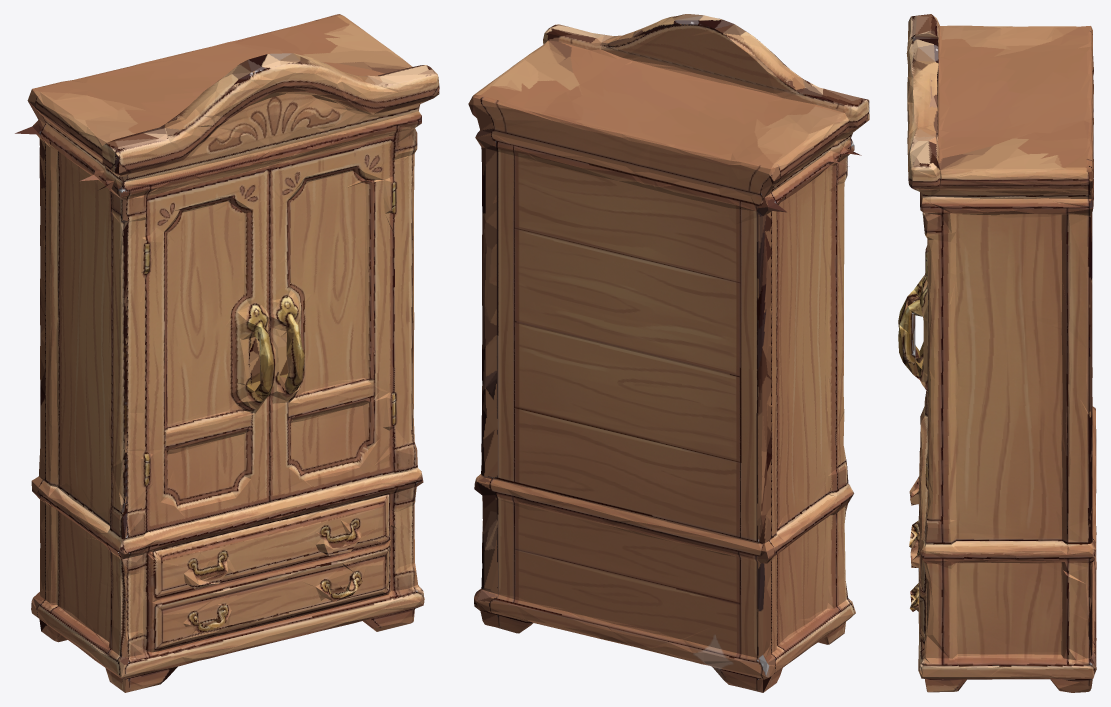
File: wardrobe.glb
3 views of the same model, side by side, from view 1: azimuth 30°, elevation 25°; view 2: azimuth 150°, elevation 25°; view 3: azimuth 270°, elevation 25° (orthographic). The views are drawn at different scales.
Parts seen in each view (by area): view 1: geometry_0; view 2: geometry_0; view 3: geometry_0.
Part boxes in pixels (x1,y1,x2,y2): geometry_0: [15, 14, 439, 692]; geometry_0: [468, 14, 869, 692]; geometry_0: [898, 14, 1096, 692].
Bounding box in the file's own units: 1.04 × 1.8 × 0.5568.
1 material, 1 textured.
